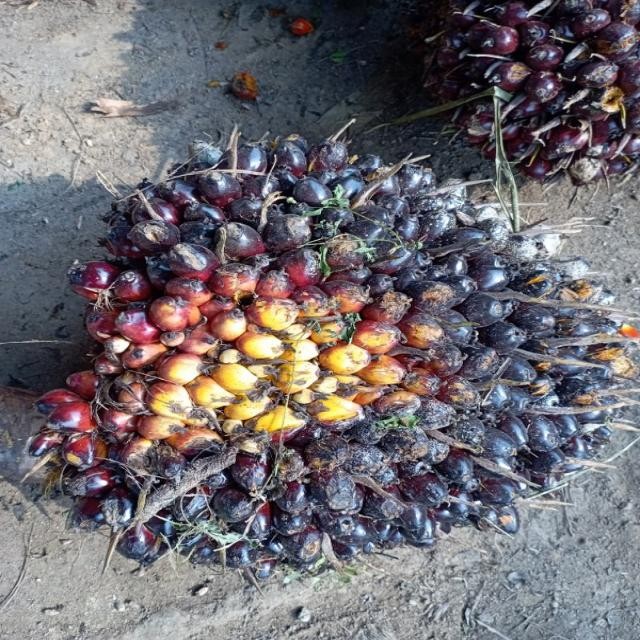fraksi 00: (52, 134, 629, 570)
